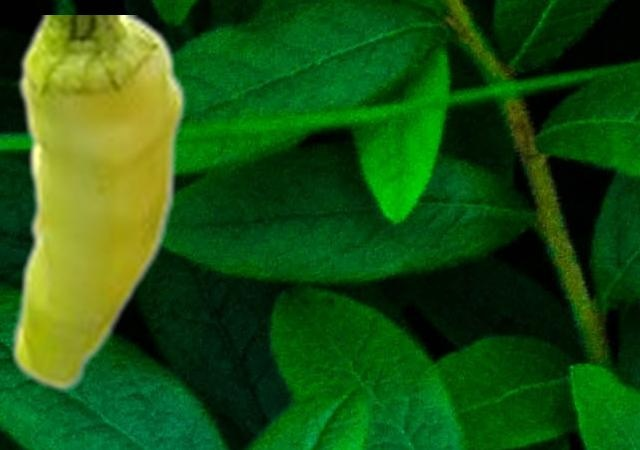green_chili: (9, 15, 186, 391)
